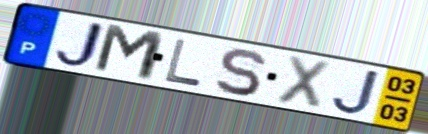J: (51, 19, 109, 71), (329, 67, 383, 116)
L: (162, 37, 205, 89)
M: (90, 21, 169, 84)
S: (213, 46, 268, 97)
X: (272, 53, 335, 112)
